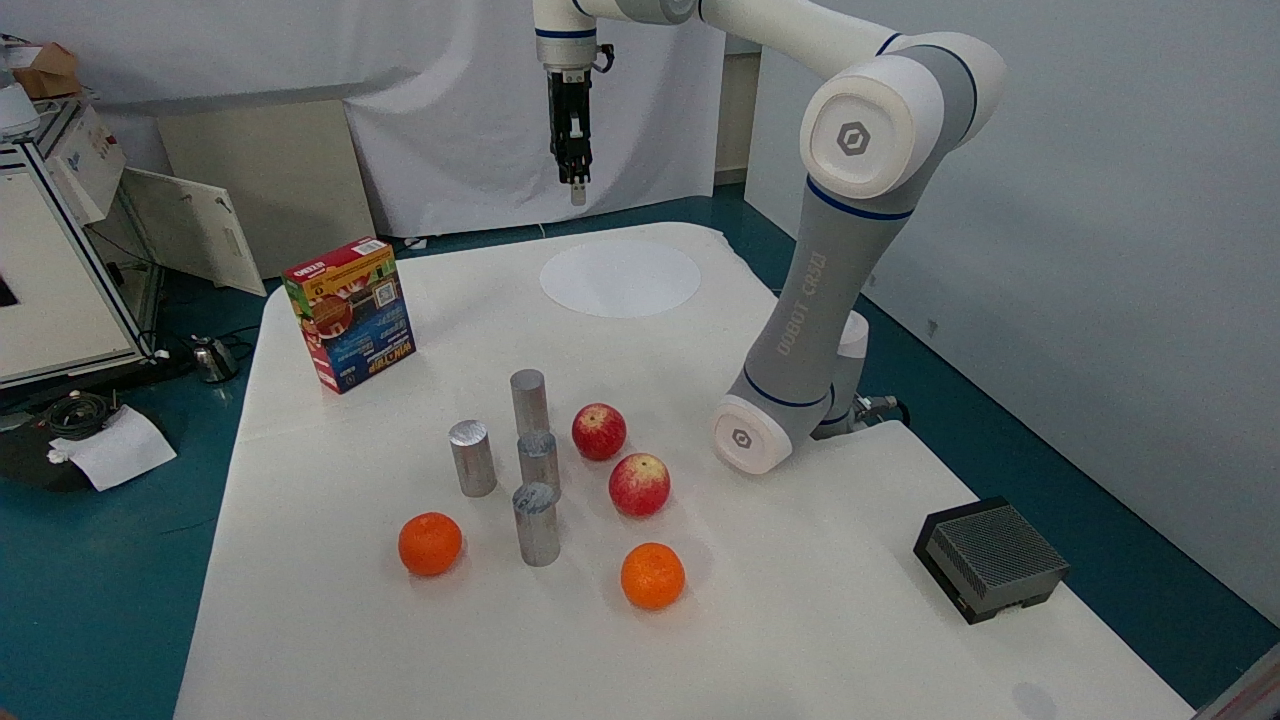apple: (605, 443, 680, 526), (558, 397, 634, 466)
metal rod: (494, 479, 583, 574), (432, 413, 507, 497), (494, 419, 577, 494), (495, 355, 559, 438)
orange: (614, 531, 703, 623), (388, 498, 479, 583)
